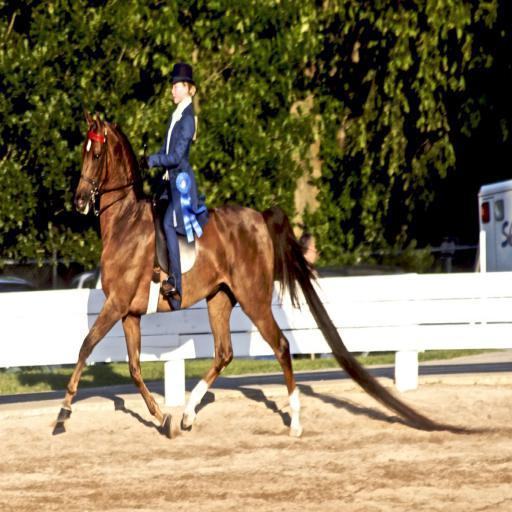horse: (56, 106, 488, 438)
